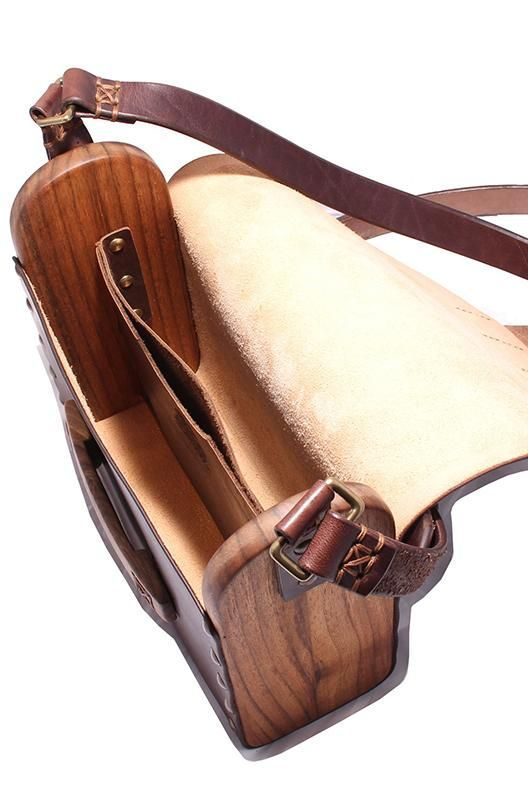cuero: (28, 65, 528, 745)
